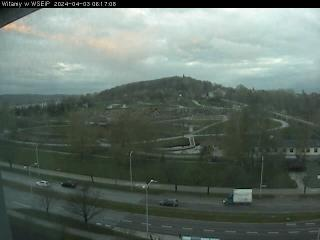car: (222, 189, 252, 205), (158, 197, 180, 208), (61, 178, 77, 190), (34, 179, 49, 187)
